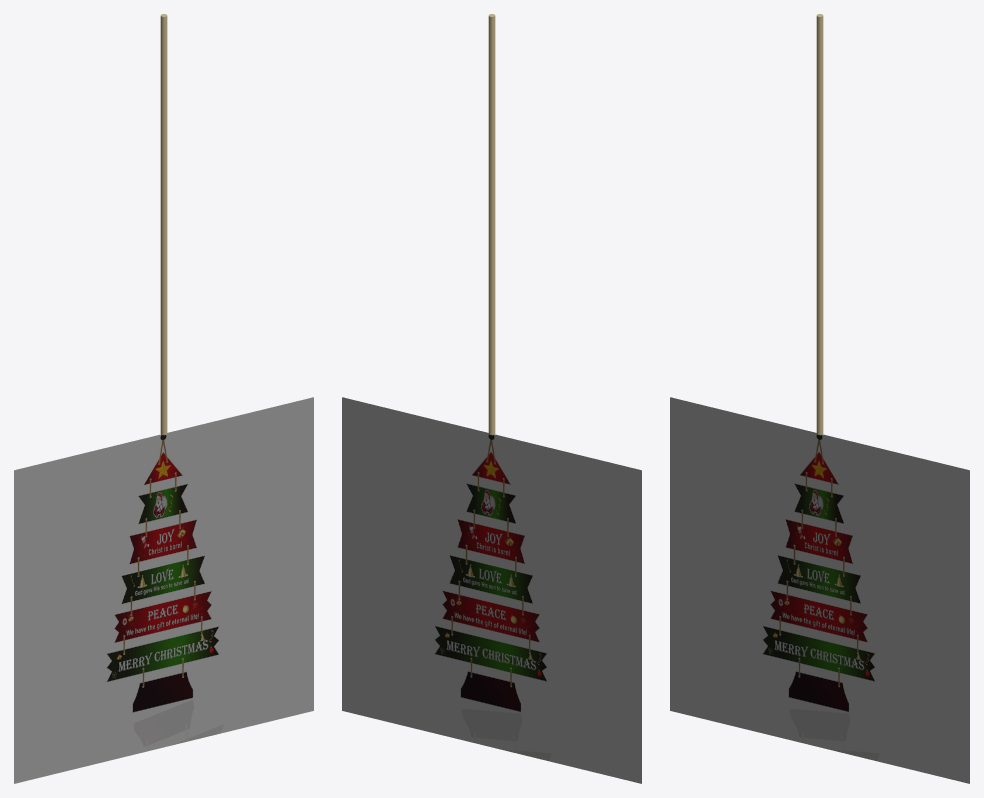
3 renders of one model, left to right at view 1: azimuth 30°, elevation 25°; view 2: azimuth 150°, elevation 25°; view 3: azimuth 330°, elevation 25°, orthographic.
Parts seen in each view (by area): view 1: photo, string; view 2: photo, string; view 3: photo, string.
Part boxes in pixels (x1=…): photo: x1=14, y1=397, x2=313, y2=783; string: x1=160, y1=14, x2=167, y2=435; photo: x1=342, y1=397, x2=641, y2=783; string: x1=488, y1=14, x2=495, y2=435; photo: x1=670, y1=397, x2=969, y2=783; string: x1=816, y1=14, x2=823, y2=435.
Size of the model in its own units: 0.3 by 0.7 by 0.006.
1 material, 1 textured.
